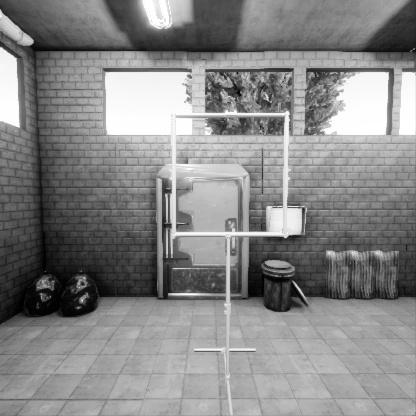gate: (169, 183, 296, 310)
